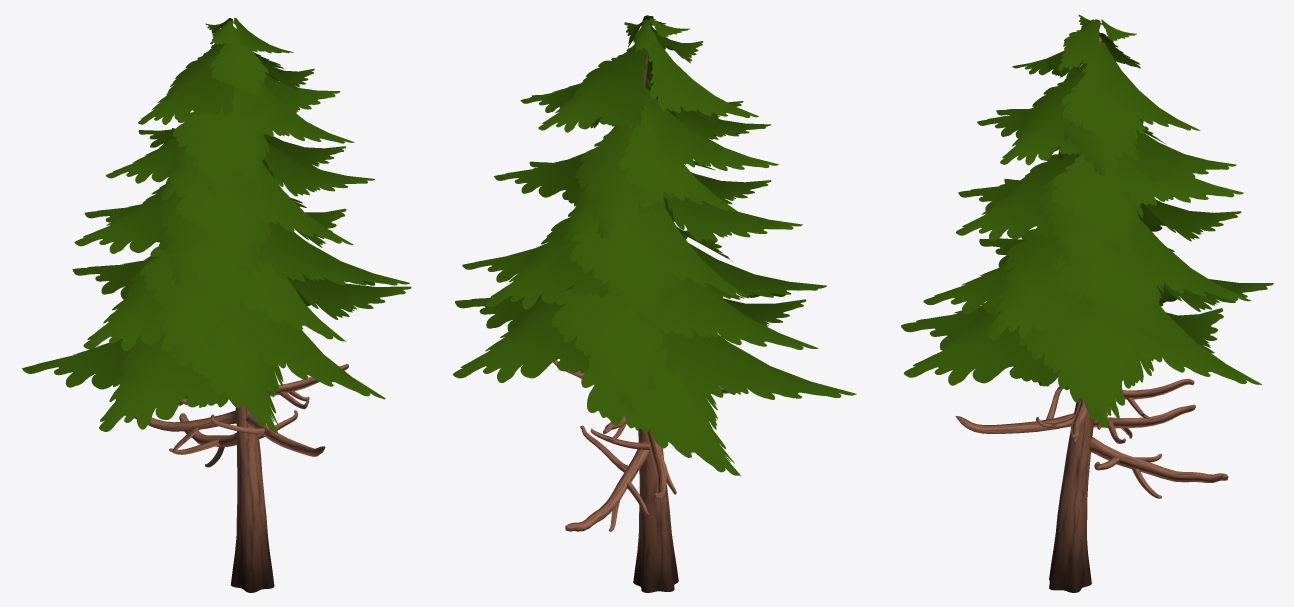
The model's file is Pine_1.glb.
3 views of the same model, side by side, from view 1: azimuth 30°, elevation 25°; view 2: azimuth 150°, elevation 25°; view 3: azimuth 270°, elevation 25° (orthographic). The views are drawn at different scales.
Visible parts, largest first — view 1: Pine_1; view 2: Pine_1; view 3: Pine_1.
Boxes of the visible parts, box(x1,y1,x2,y2) form: Pine_1: box(22, 18, 411, 592); Pine_1: box(453, 15, 856, 592); Pine_1: box(901, 14, 1273, 592).
Bounding box in the file's own units: 4.94 × 7.32 × 4.54.
Materials: 2 (2 with a texture image).
